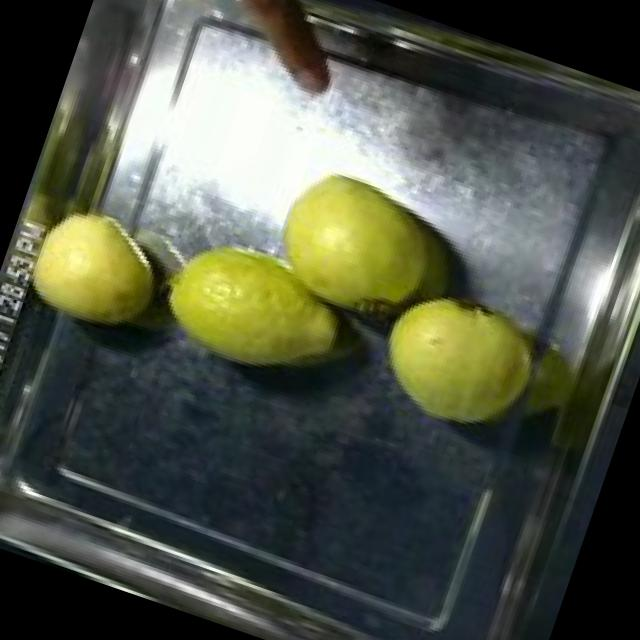Fruit: (247, 146, 482, 352), (137, 212, 366, 402), (354, 266, 554, 452), (0, 177, 182, 352)
